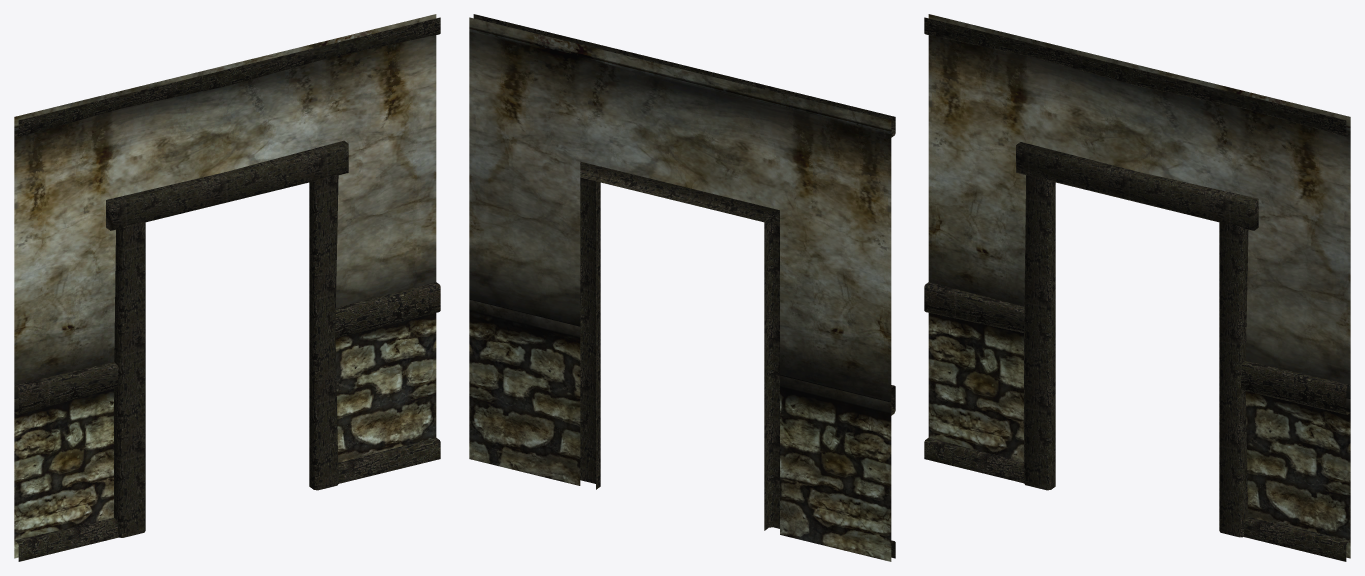
File: cellar_wall_01_doorway.DAE
3 renders of one model, left to right at view 1: azimuth 30°, elevation 25°; view 2: azimuth 150°, elevation 25°; view 3: azimuth 330°, elevation 25°, orthographic.
Parts seen in each view (by area): view 1: Box005, Box006; view 2: Box005, Box006; view 3: Box005, Box006.
Boxes of the visible parts, box(x1,y1,x2,y2) form: Box005: box(14, 14, 436, 558); Box006: box(14, 17, 440, 561); Box005: box(469, 17, 891, 561); Box006: box(473, 14, 895, 558); Box005: box(928, 14, 1350, 558); Box006: box(924, 17, 1350, 561).
Bounding box in the file's own units: 4 × 4 × 0.1.
